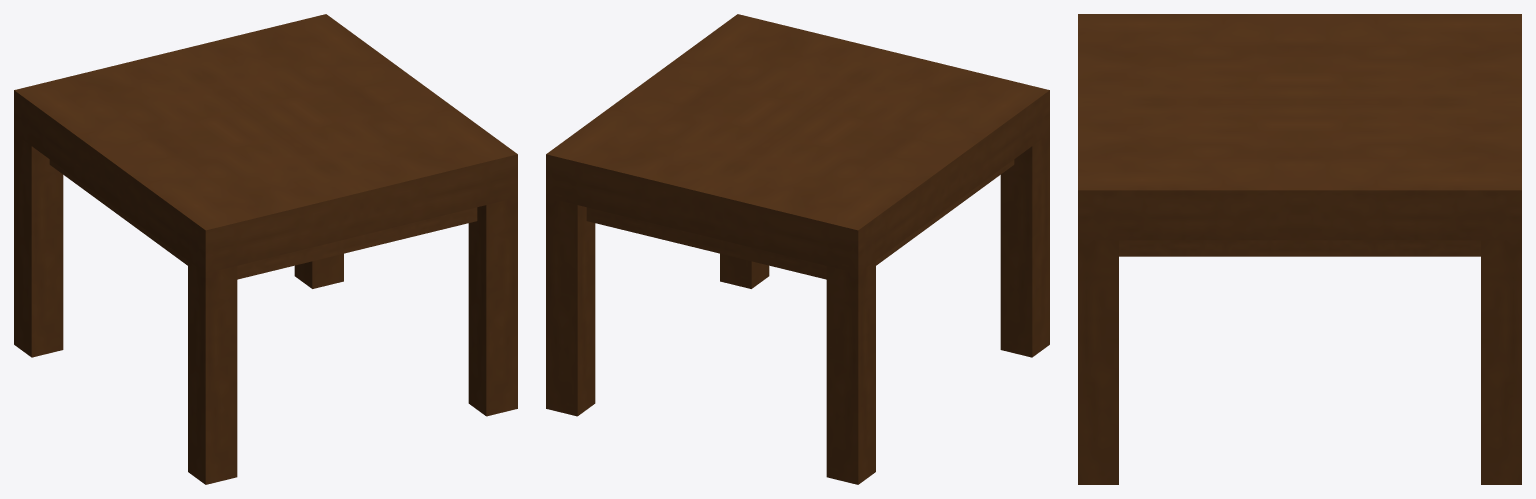
The model's file is SmallTable.fbx.
3 renders of one model, left to right at view 1: azimuth 30°, elevation 25°; view 2: azimuth 150°, elevation 25°; view 3: azimuth 270°, elevation 25°, orthographic. The views are drawn at different scales.
Parts seen in each view (by area): view 1: SmallTable; view 2: SmallTable; view 3: SmallTable.
Boxes of the visible parts, <box> form: SmallTable: <box>14,14,517,484</box>; SmallTable: <box>546,14,1049,484</box>; SmallTable: <box>1078,14,1521,484</box>.
Bounding box in the file's own units: 205 × 218 × 160.
